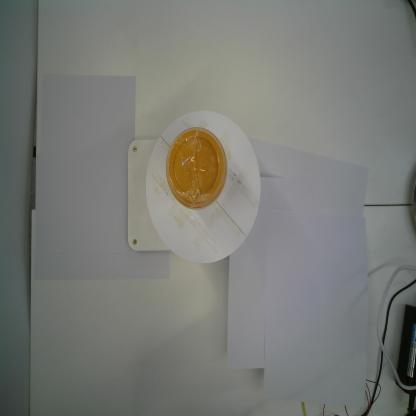Instant Drink: (165, 126, 227, 210)
